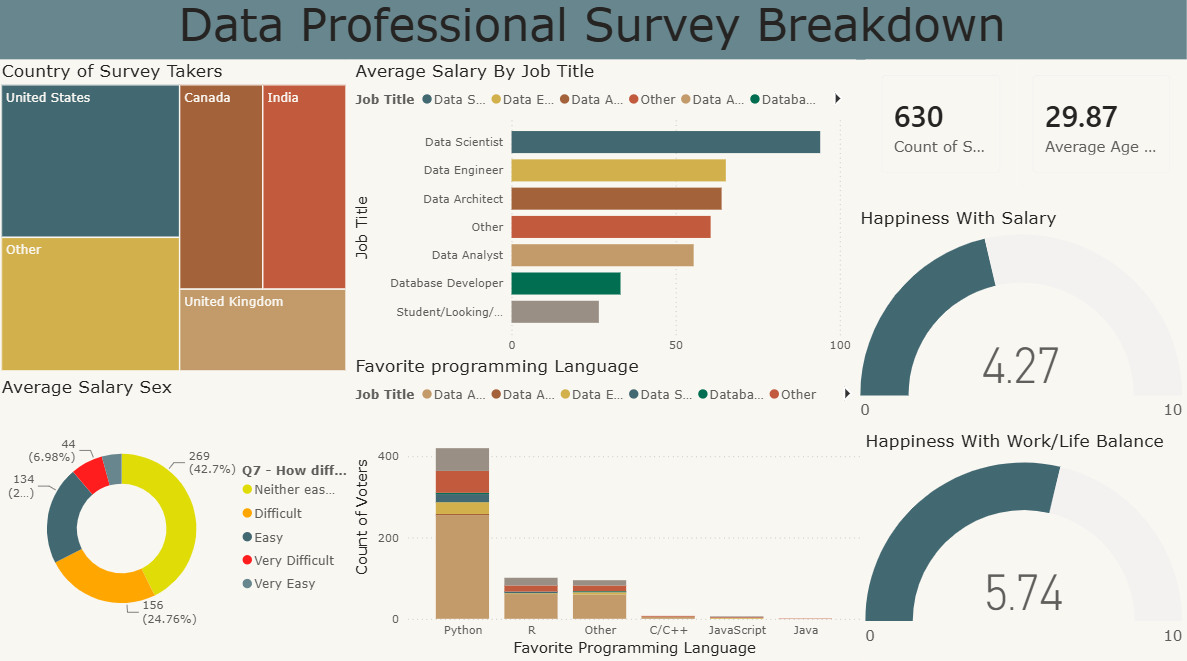

This screenshot's page, from the dashboard's own definition file:
{"tool":"powerbi","page":{"name":"Page 1","canvas":[1280,720],"ordinal":0},"visuals":[{"type":"textbox","box":[0,0,1280.3,72.6],"z":0},{"type":"cardVisual","fields":{"Data":["CountNonNull(Data Professional Survey.Unique ID)"]},"box":[934.7,72.6,162.7,139.9],"z":1000},{"type":"cardVisual","fields":{"Data":["Avg(Data Professional Survey.Q10 - Current Age)"]},"box":[1097.4,72.6,182.9,139.9],"z":2000},{"type":"barChart","title":"Average Salary By Job Title","fields":{"Category":["Data Professional Survey.Q1 - Which Title Best Fits your Current Role?.1"],"Y":["Avg(Data Professional Survey.Average Salary)"],"Series":["Data Professional Survey.Q1 - Which Title Best Fits your Current Role?.1"]},"box":[380.6,72.6,543.3,340.2],"z":3000},{"type":"columnChart","title":"Favorite programming Language","fields":{"Category":["Data Professional Survey.Q5 - Favorite Programming Language.1"],"Y":["CountNonNull(Data Professional Survey.Unique ID)"],"Series":["Data Professional Survey.Q1 - Which Title Best Fits your Current Role?.1"]},"box":[380.6,390,554.1,329.5],"z":4000},{"type":"gauge","title":"Happiness With Work/Life Balance","fields":{"Y":["Avg(Data Professional Survey.Q6 - How Happy are you in your Current Position with the following? (Work/Life Balance))"],"MinValue":["Min(Data Professional Survey.Q6 - How Happy are you in your Current Position with the following? (Work/Life Balance))"],"MaxValue":["Max(Data Professional Survey.Q6 - How Happy are you in your Current Position with the following? (Work/Life Balance))1"]},"box":[929.3,470.7,351,248.8],"z":5000},{"type":"gauge","title":"Happiness With Salary ","fields":{"Y":["Avg(Data Professional Survey.Q6 - How Happy are you in your Current Position with the following? (Salary))"],"MinValue":["Min(Data Professional Survey.Q6 - How Happy are you in your Current Position with the following? (Salary))"],"MaxValue":["Max(Data Professional Survey.Q6 - How Happy are you in your Current Position with the following? (Salary))"]},"box":[923.9,231.3,356.4,239.4],"z":6000},{"type":"treemap","title":"Country of Survey Takers","fields":{"Group":["Data Professional Survey.Q11 - Which Country do you live in?.1"],"Values":["Count(Data Professional Survey.Average Salary)"]},"box":[0,72.6,380.6,340.2],"z":7000},{"type":"donutChart","title":"Average Salary Sex","fields":{"Category":["Data Professional Survey.Q7 - How difficult was it for you to break into Data?"],"Y":["CountNonNull(Data Professional Survey.Q7 - How difficult was it for you to break into Data?)"]},"box":[0,412.9,380.6,306.6],"z":8000}]}

Visuals, with their boxes in screenshot pixels (x1, y1, x2, y2), scaled from the page's 1280x720 canvas onto the 1187x661 screenshot:
textbox: (0, 0, 1186, 67)
cardVisual - CountNonNull(Data Professional Survey.Unique ID): (867, 67, 1018, 195)
cardVisual - Avg(Data Professional Survey.Q10 - Current Age): (1018, 67, 1186, 195)
"Average Salary By Job Title" barChart: (353, 67, 857, 379)
"Favorite programming Language" columnChart: (353, 358, 867, 660)
"Happiness With Work/Life Balance" gauge: (862, 432, 1186, 660)
"Happiness With Salary " gauge: (857, 212, 1186, 432)
"Country of Survey Takers" treemap: (0, 67, 353, 379)
"Average Salary Sex" donutChart: (0, 379, 353, 660)
